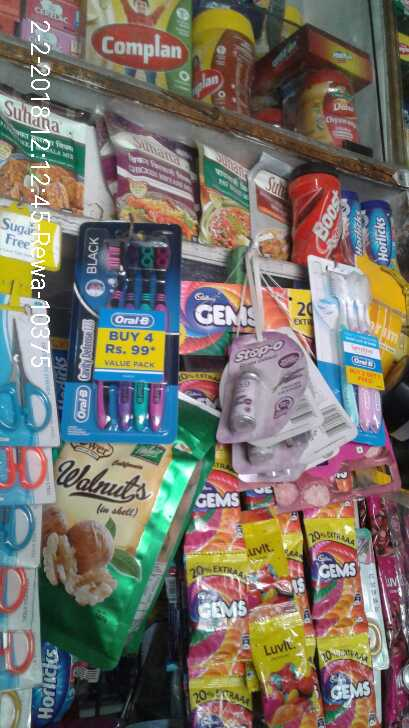oralb: (91, 244, 168, 438), (322, 262, 392, 436)
